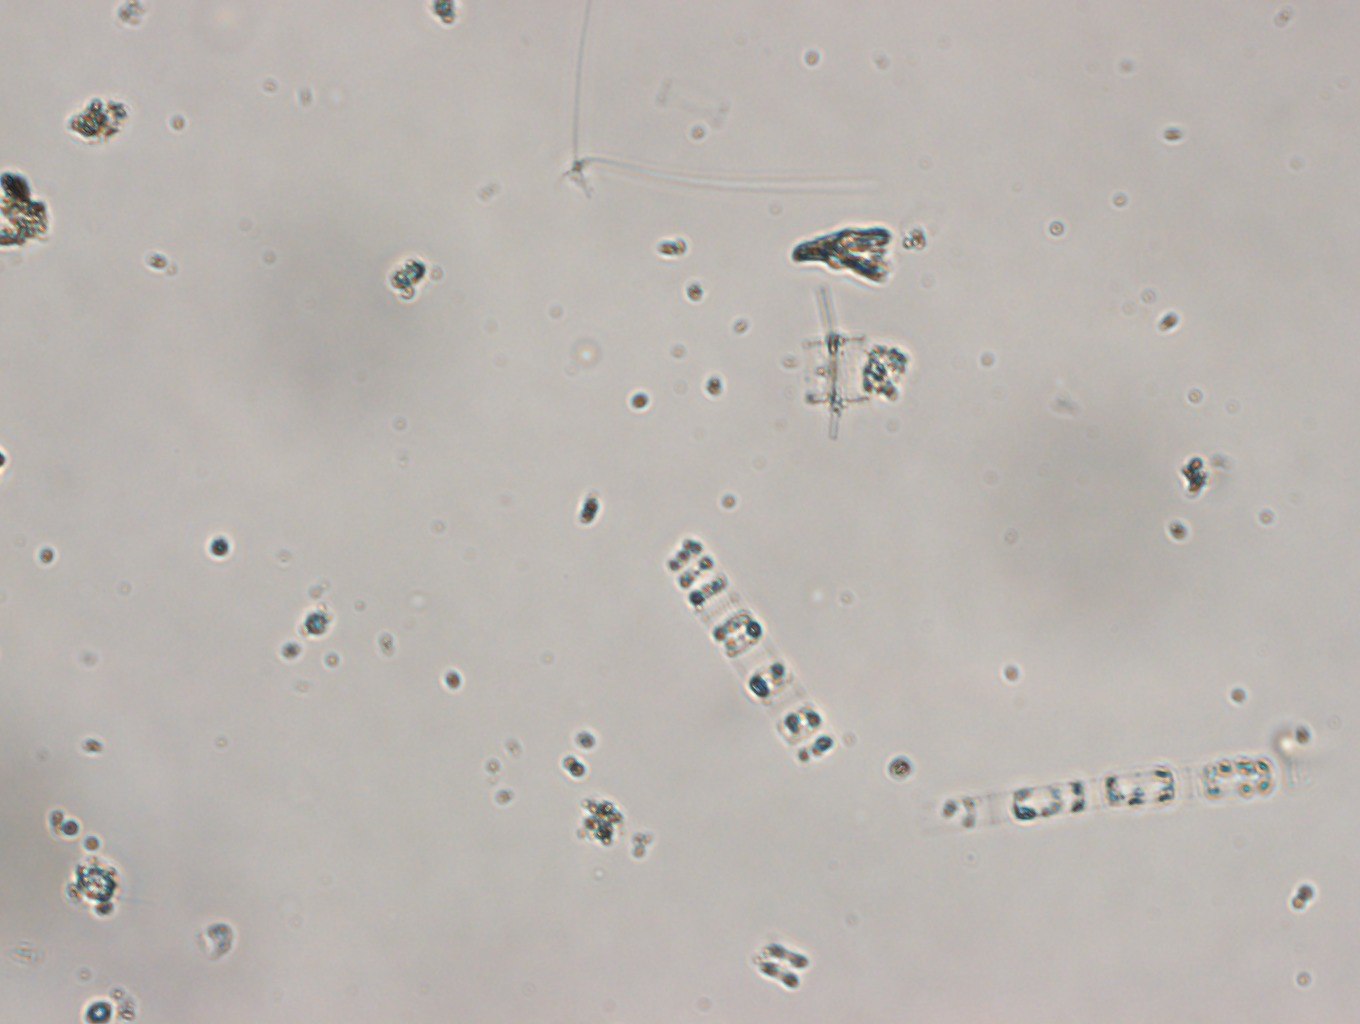skeletonema: (657, 534, 850, 772), (940, 752, 1282, 842)
